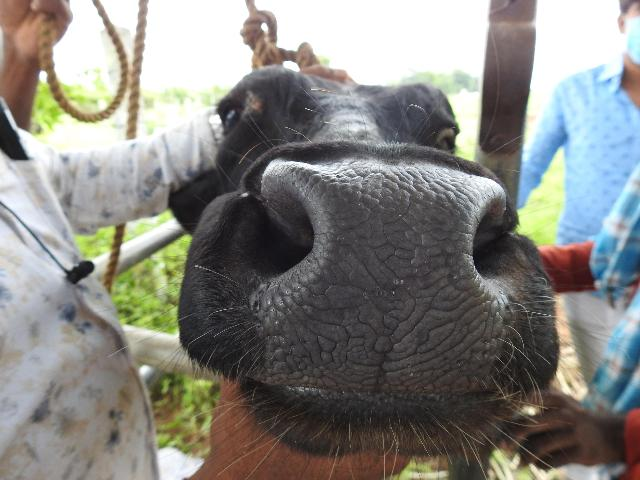Muzzle: (274, 166, 486, 406)
